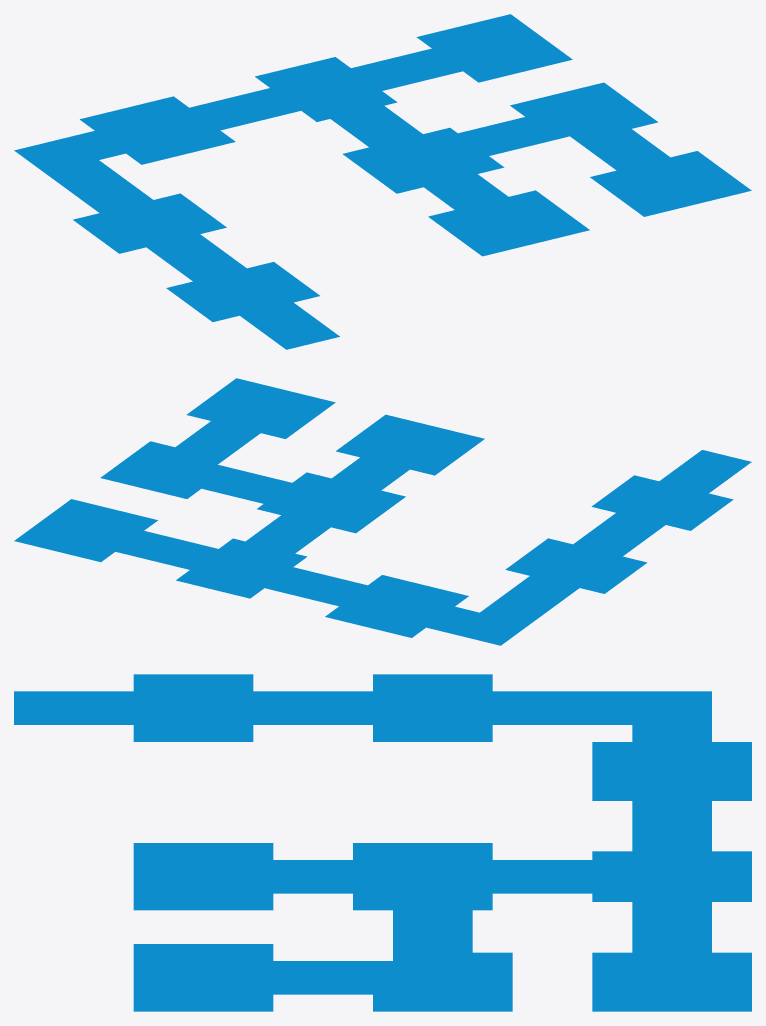
Rendered from ChaoTunelSubterraneo.fbx.
The picture shows the model from 3 angles, top to bottom: view 1: azimuth 30°, elevation 25°; view 2: azimuth 150°, elevation 25°; view 3: azimuth 270°, elevation 25°; orthographic projection. The views are drawn at different scales.
Parts seen in each view (by area): view 1: TUNEIS_SUBTERRANEOS; view 2: TUNEIS_SUBTERRANEOS; view 3: TUNEIS_SUBTERRANEOS.
Part boxes in pixels (left/top/right/bottom): TUNEIS_SUBTERRANEOS: left=14, top=14, right=751, bottom=349; TUNEIS_SUBTERRANEOS: left=14, top=378, right=751, bottom=645; TUNEIS_SUBTERRANEOS: left=14, top=674, right=751, bottom=1011.
Size of the model in its own units: 8000 by 0 by 7400.
